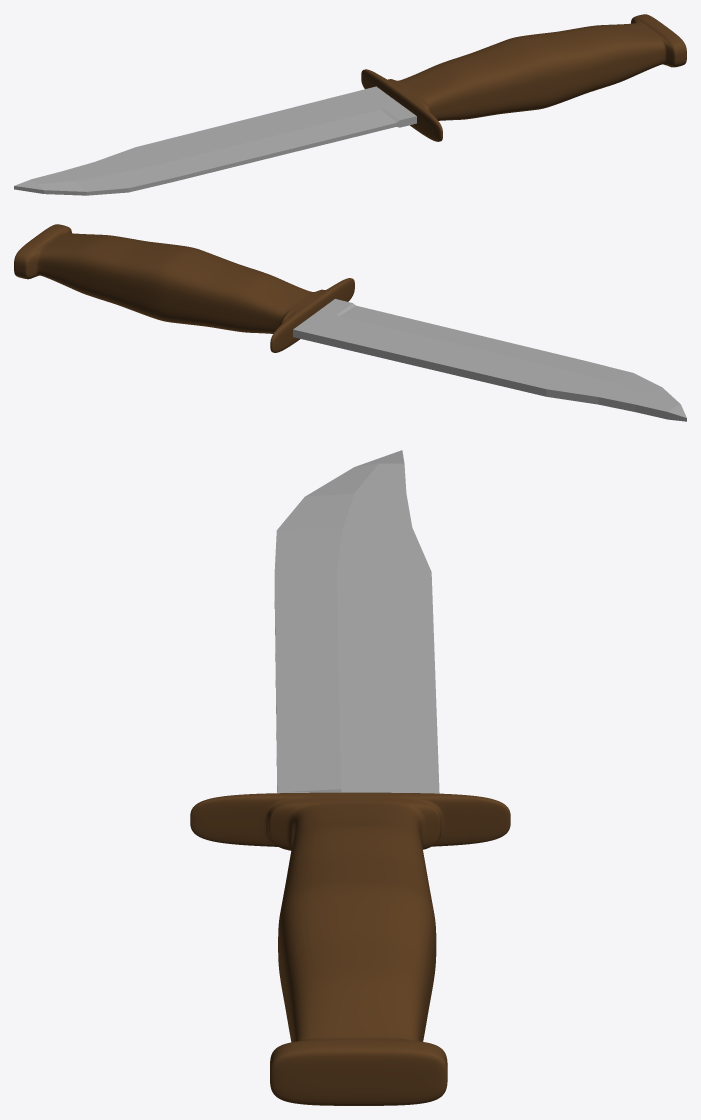
File: knife.fbx
3 views of the same model, one above another, from view 1: azimuth 30°, elevation 25°; view 2: azimuth 150°, elevation 25°; view 3: azimuth 270°, elevation 25° (orthographic). The views are drawn at different scales.
Parts seen in each view (by area): view 1: Knife; view 2: Knife; view 3: Knife.
Boxes of the visible parts, x1,y1,x2,y2 form: Knife: [14, 14, 686, 195]; Knife: [14, 224, 686, 421]; Knife: [190, 450, 510, 1105].
Size of the model in its own units: 445 by 37.9 by 96.27.
